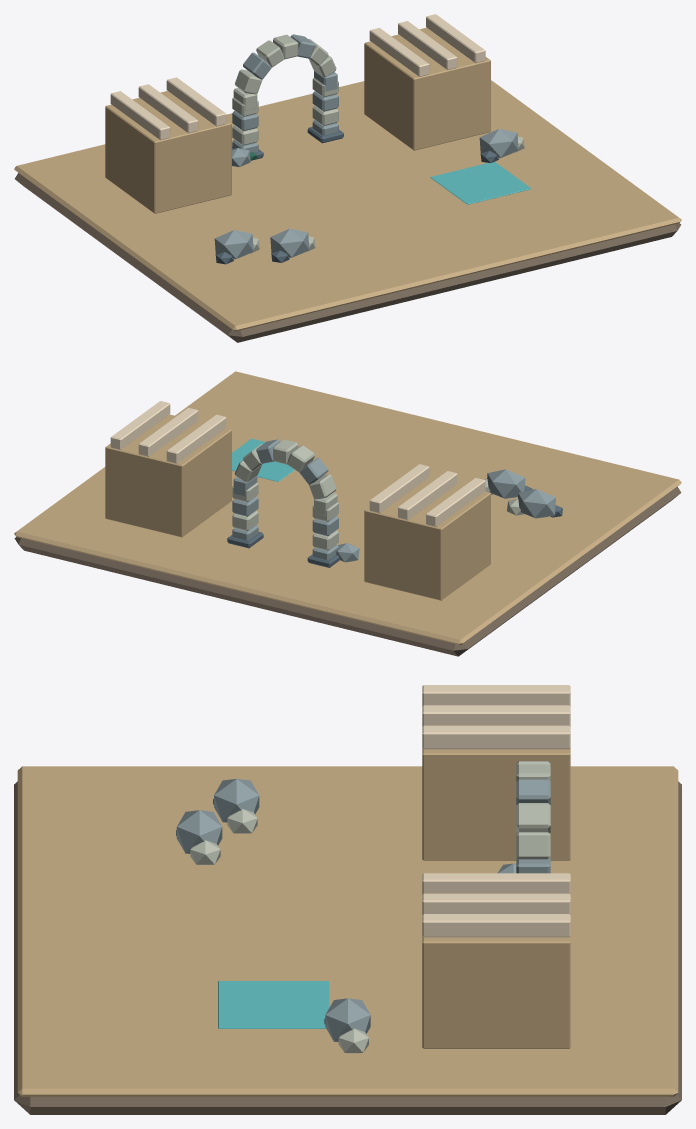
Rendered from world-desert.glb.
The picture shows the model from 3 angles, top to bottom: view 1: azimuth 30°, elevation 25°; view 2: azimuth 150°, elevation 25°; view 3: azimuth 270°, elevation 25°; orthographic projection. The views are drawn at different scales.
Visible parts, largest first — view 1: terrain-top, adobe-house.001, adobe-house, terrain-stratum, oasis, battlement, battlement.001, battlement.003, battlement.002, battlement.005, battlement.004, rock.003 (+2 smaller); view 2: terrain-top, adobe-house.001, adobe-house, terrain-stratum, battlement.003, battlement.004, battlement.002, battlement.005, battlement, battlement.001, oasis, rock.003 (+4 smaller); view 3: terrain-top, adobe-house.001, terrain-stratum, adobe-house, oasis, battlement.002, battlement.005, battlement.004, battlement, battlement.001, battlement.003, rock.006 (+5 smaller).
Boxes of the visible parts, box(x1,y1,x2,y2) form: terrain-top: box(14, 80, 681, 331); adobe-house.001: box(364, 27, 490, 150); adobe-house: box(105, 91, 231, 213); terrain-stratum: box(15, 173, 681, 342); oasis: box(430, 161, 531, 204); battlement: box(110, 91, 170, 140); battlement.001: box(138, 84, 198, 133); battlement.003: box(369, 28, 429, 76); battlement.002: box(166, 77, 226, 126); battlement.005: box(426, 14, 485, 63); battlement.004: box(398, 21, 457, 69); rock.003: box(214, 230, 253, 259); terrain-top: box(14, 371, 681, 645); adobe-house.001: box(105, 414, 231, 537); adobe-house: box(364, 477, 490, 600); terrain-stratum: box(14, 486, 681, 656); battlement.003: box(166, 414, 226, 463); battlement.004: box(138, 407, 198, 456); battlement.002: box(369, 464, 429, 513); battlement.005: box(110, 401, 170, 449); battlement: box(426, 478, 485, 526); battlement.001: box(398, 471, 457, 519); oasis: box(232, 438, 315, 481); rock.003: box(518, 489, 555, 518); terrain-top: box(17, 766, 678, 1096); adobe-house.001: box(422, 936, 570, 1048); terrain-stratum: box(14, 781, 681, 1114); adobe-house: box(422, 748, 570, 860); oasis: box(218, 981, 329, 1028); battlement.002: box(422, 725, 570, 749); battlement.005: box(422, 914, 570, 937); battlement.004: box(422, 893, 570, 914); battlement: box(422, 685, 570, 706); battlement.001: box(422, 705, 570, 726); battlement.003: box(422, 873, 570, 894); rock.006: box(176, 810, 222, 853).
Size of the model in its own units: 21 by 5.6 by 18.
